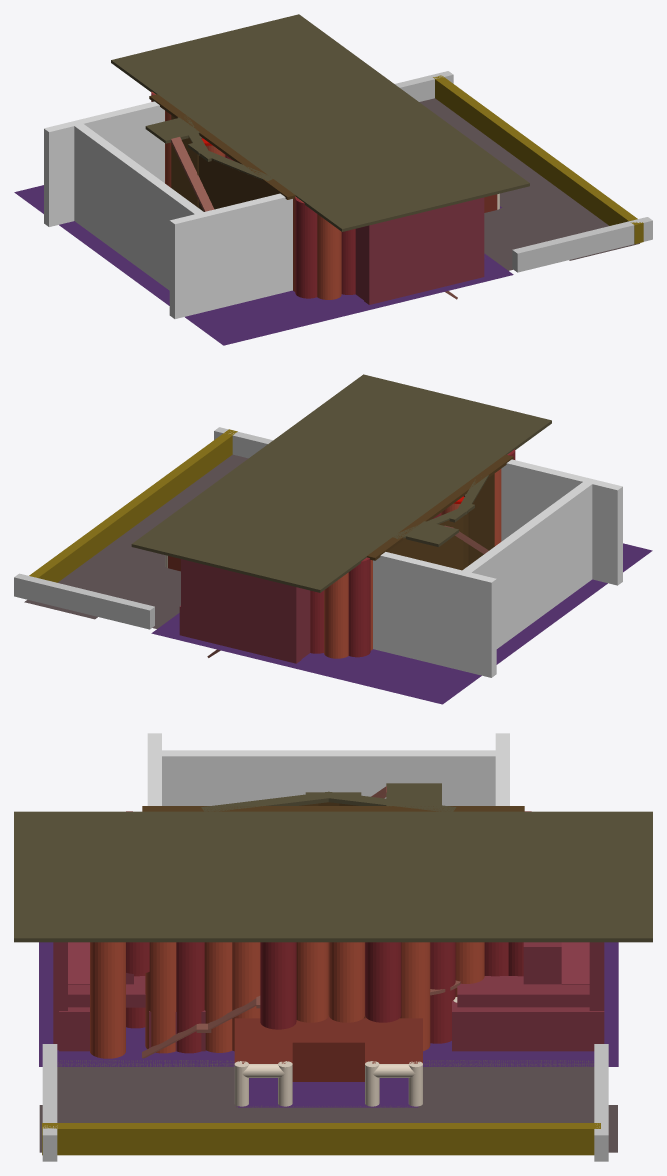
The model's file is theate2r.dae.
3 views of the same model, one above another, from view 1: azimuth 30°, elevation 25°; view 2: azimuth 150°, elevation 25°; view 3: azimuth 270°, elevation 25° (orthographic). The views are drawn at different scales.
Visible parts, largest first — view 1: roof_004, Cube_018, Cube_019, Cube_048, floor, Cube_017, floor_004, Cube_057, Cube_055, Cube_005, Cylinder_002, floor_002 (+9 smaller); view 2: roof_004, Cube_017, Cube_019, Cube_039, floor, Cube_018, floor_004, Cube_057, Cube_056, Cylinder_005, Cylinder_007, floor_003 (+8 smaller); view 3: roof_004, Cube_057, Cube_019, floor_004, floor, floor_002, floor_003, Cube_041, Cylinder_061, floor_001, Cube_053, Cube_020 (+36 smaller).
Part boxes in pixels (bbox=[...]): roof_004: bbox=[111, 14, 529, 231]; Cube_018: bbox=[169, 193, 292, 318]; Cube_019: bbox=[72, 122, 205, 290]; Cube_048: bbox=[364, 197, 484, 304]; floor: bbox=[14, 185, 513, 345]; Cube_017: bbox=[44, 101, 164, 226]; floor_004: bbox=[419, 98, 639, 260]; Cube_057: bbox=[433, 75, 643, 244]; Cube_055: bbox=[512, 217, 652, 272]; Cube_005: bbox=[204, 159, 278, 209]; Cylinder_002: bbox=[295, 197, 317, 298]; floor_002: bbox=[484, 209, 546, 270]; roof_004: bbox=[131, 374, 551, 592]; Cube_017: bbox=[373, 552, 496, 677]; Cube_019: bbox=[460, 482, 592, 648]; Cube_039: bbox=[181, 559, 301, 663]; floor: bbox=[151, 543, 652, 704]; Cube_018: bbox=[501, 459, 622, 585]; floor_004: bbox=[24, 454, 248, 619]; Cube_057: bbox=[29, 429, 237, 582]; Cube_056: bbox=[14, 573, 154, 629]; Cylinder_005: bbox=[348, 557, 370, 657]; Cylinder_007: bbox=[324, 572, 348, 658]; floor_003: bbox=[123, 567, 180, 628]; roof_004: bbox=[14, 811, 652, 942]; Cube_057: bbox=[42, 1123, 600, 1155]; Cube_019: bbox=[155, 750, 502, 805]; floor_004: bbox=[39, 1105, 617, 1152]; floor: bbox=[39, 942, 618, 1066]; floor_002: bbox=[57, 1060, 237, 1107]; floor_003: bbox=[418, 1060, 594, 1107]; Cube_041: bbox=[459, 1007, 604, 1051]; Cylinder_061: bbox=[90, 942, 125, 1058]; floor_001: bbox=[236, 1078, 418, 1107]; Cube_053: bbox=[457, 976, 589, 1007]; Cube_020: bbox=[285, 1036, 371, 1081].
Size of the model in its own units: 97.01 by 88.16 by 24.86.
